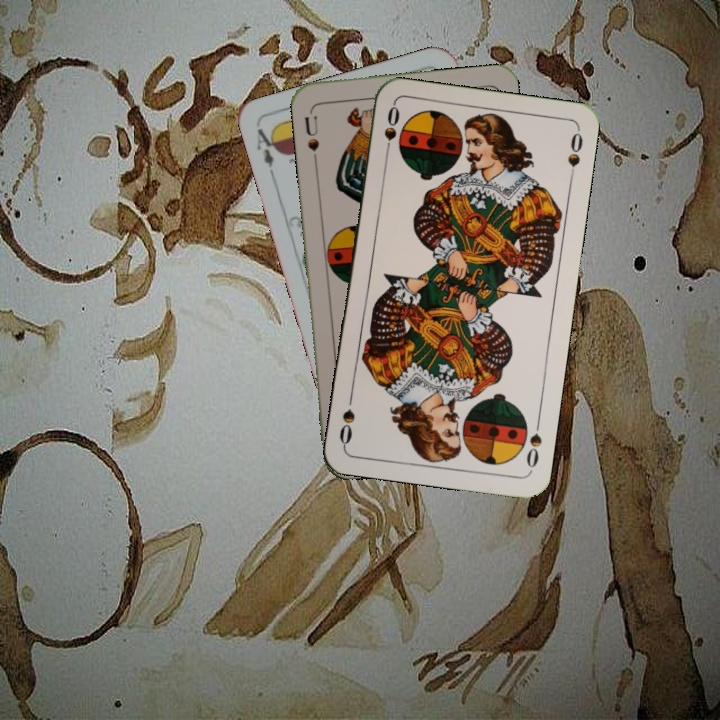EA: (252, 124, 282, 181)
SO: (380, 102, 403, 161), (522, 414, 545, 473)
SU: (300, 111, 322, 165)
